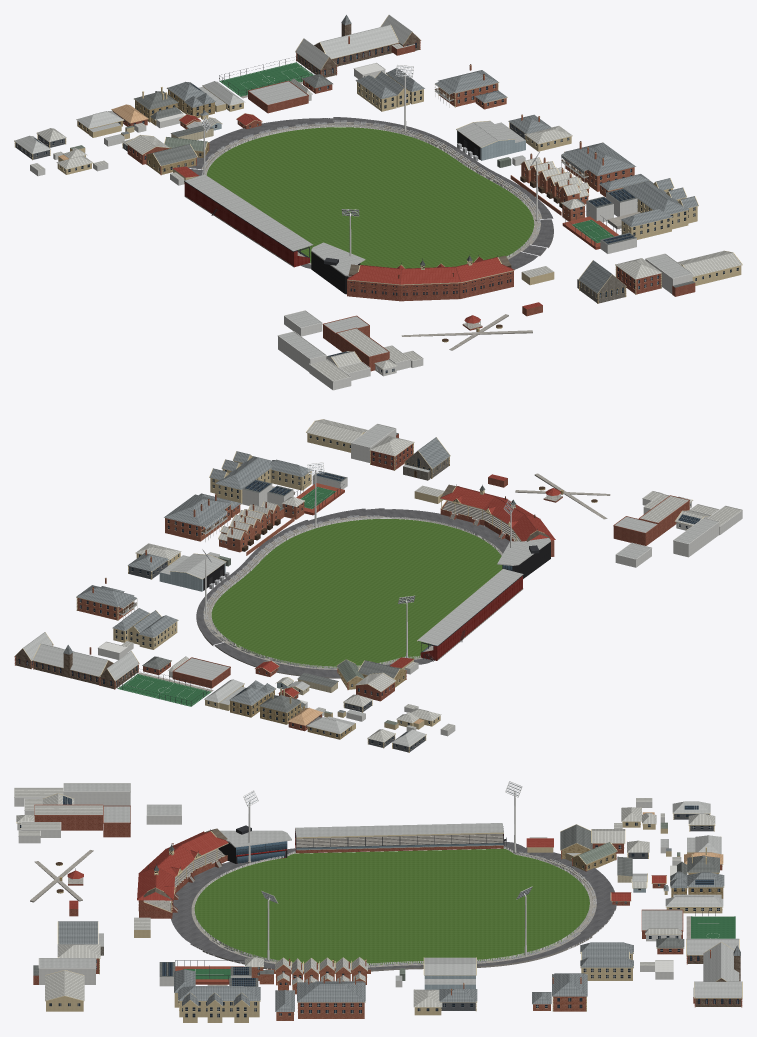
The model's file is norwood.glb.
3 renders of one model, top to bottom at view 1: azimuth 30°, elevation 25°; view 2: azimuth 150°, elevation 25°; view 3: azimuth 270°, elevation 25°, orthographic. The views are drawn at different scales.
Visible parts, largest first — view 1: arena_grass, town_front_parade, town_front_school, town_front_beulah, town_se, arena_ground, ses_rear, town_terrace, town_house_e, ses_roof, ws_roof, town_shed (+11 smaller); view 2: arena_grass, town_front_parade, town_front_school, town_front_beulah, arena_ground, town_se, town_terrace, town_house_e, ws_roof, town_shed, ses_roof, town_ne43 (+11 smaller); view 3: arena_grass, town_front_parade, town_front_beulah, town_front_school, arena_ground, town_se, town_house_e, town_terrace, ses_roof, ws_roof, ws_rake, town_ne43 (+17 smaller).
Boxes of the visible parts, x1,y1,x2,y2 form: arena_grass: [207, 127, 534, 268]; town_front_parade: [277, 250, 742, 390]; town_front_school: [219, 14, 421, 113]; town_front_beulah: [14, 81, 244, 176]; town_se: [562, 178, 698, 253]; arena_ground: [188, 117, 553, 269]; ses_rear: [347, 271, 513, 301]; town_terrace: [510, 153, 589, 221]; town_house_e: [561, 141, 649, 197]; ses_roof: [347, 257, 513, 284]; ws_roof: [184, 174, 313, 251]; town_shed: [456, 120, 525, 167]; arena_grass: [211, 519, 502, 668]; town_front_parade: [306, 419, 742, 567]; town_front_school: [14, 632, 230, 706]; town_front_beulah: [204, 677, 455, 752]; arena_ground: [196, 508, 509, 678]; town_se: [209, 451, 347, 515]; town_terrace: [218, 496, 304, 555]; town_house_e: [164, 493, 241, 541]; ws_roof: [417, 568, 523, 645]; town_shed: [159, 552, 230, 591]; ses_roof: [440, 486, 555, 541]; town_ne43: [112, 608, 178, 649]; arena_grass: [194, 848, 589, 965]; town_front_parade: [14, 783, 181, 1011]; town_front_beulah: [614, 798, 724, 913]; town_front_school: [640, 909, 742, 1007]; arena_ground: [170, 841, 616, 971]; town_se: [159, 960, 260, 1022]; town_house_e: [275, 976, 365, 1020]; town_terrace: [245, 957, 370, 994]; ses_roof: [137, 831, 228, 900]; ws_roof: [295, 823, 503, 838]; ws_rake: [295, 834, 503, 847]; town_ne43: [580, 942, 633, 980].
Size of the model in its own units: 241 by 37.26 by 327.
Materials: 48 (48 with a texture image).
